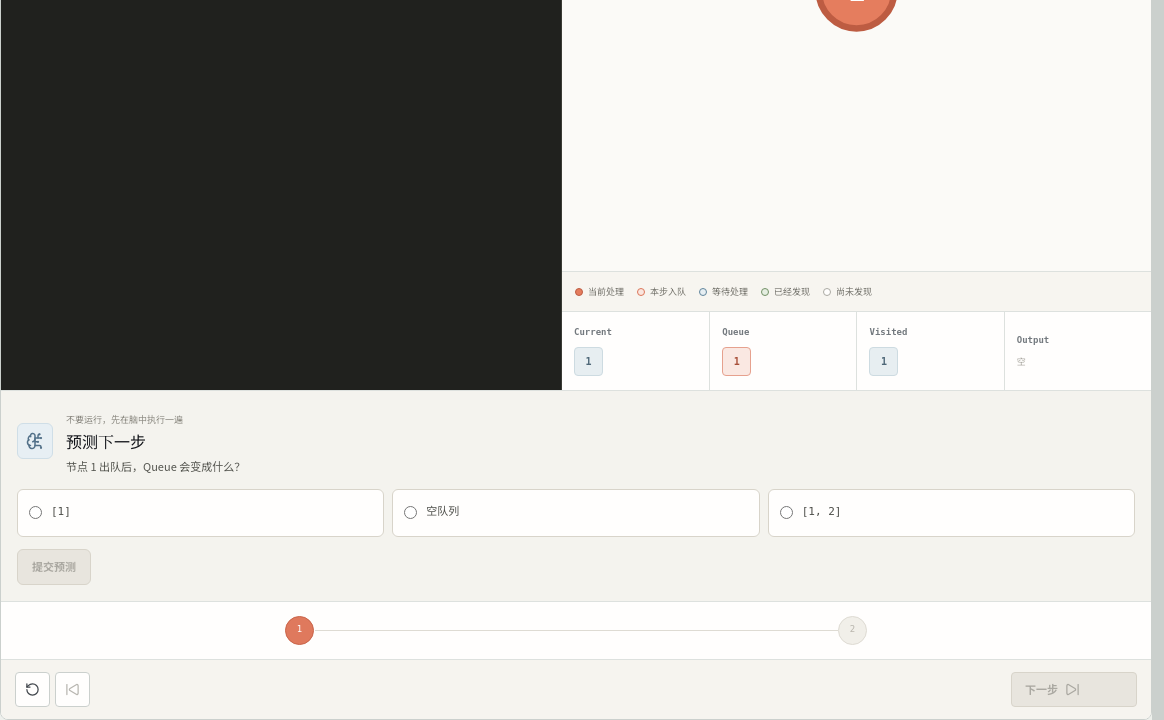
Scenario: TracePredictionChallenge › locks the next state until an answer is submitted, then reveals and advances
(page scrolled)
expect the heading "预测下一步" is shown: met, box [66,430,146,453]
expect the button "下一步" is disabled: met, box [1011,672,1137,706]
Click the radio button labelled "空队列".
click(411, 512)  # box [404,506,417,519]
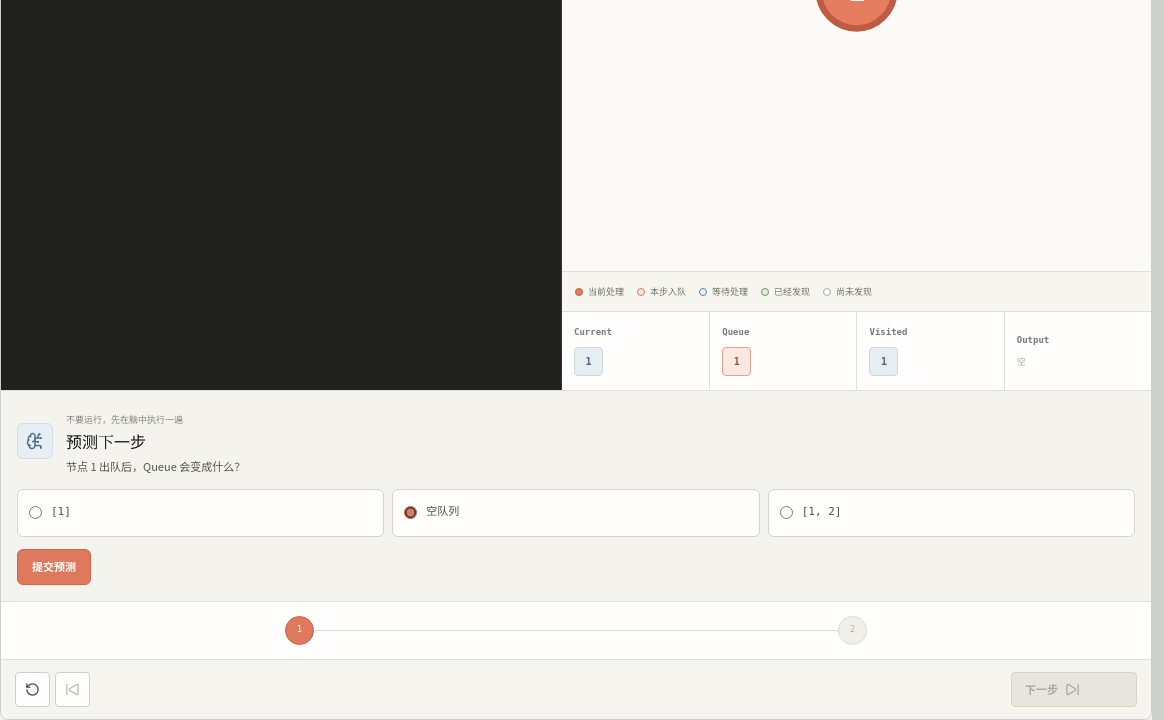
Click the button "提交预测".
click(54, 566)  # box [17,548,91,584]
(page scrolled)
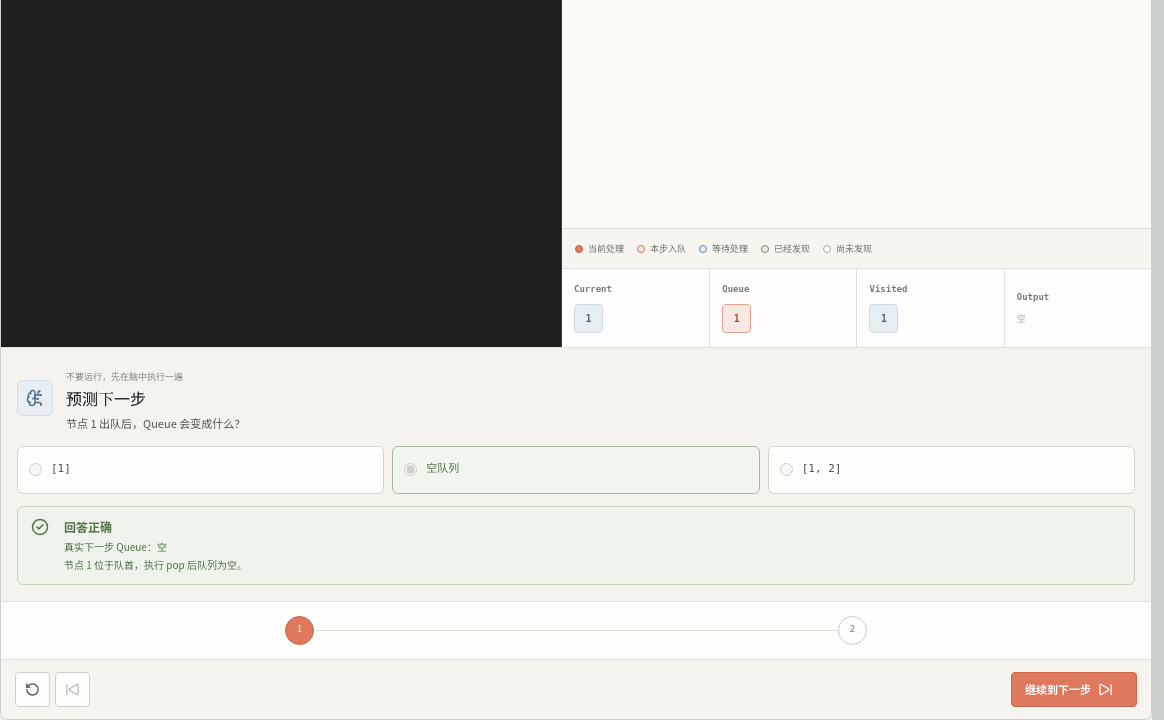
expect the message shows "回答正确": met, box [64,518,112,534]
expect the message shows "真实下一步 Queue：空": met, box [17,506,1135,584]
expect the button "继续到下一步" is enabled: met
Click the button "继续到下一步".
click(1074, 689)  # box [1011,672,1137,706]
(page scrolled)
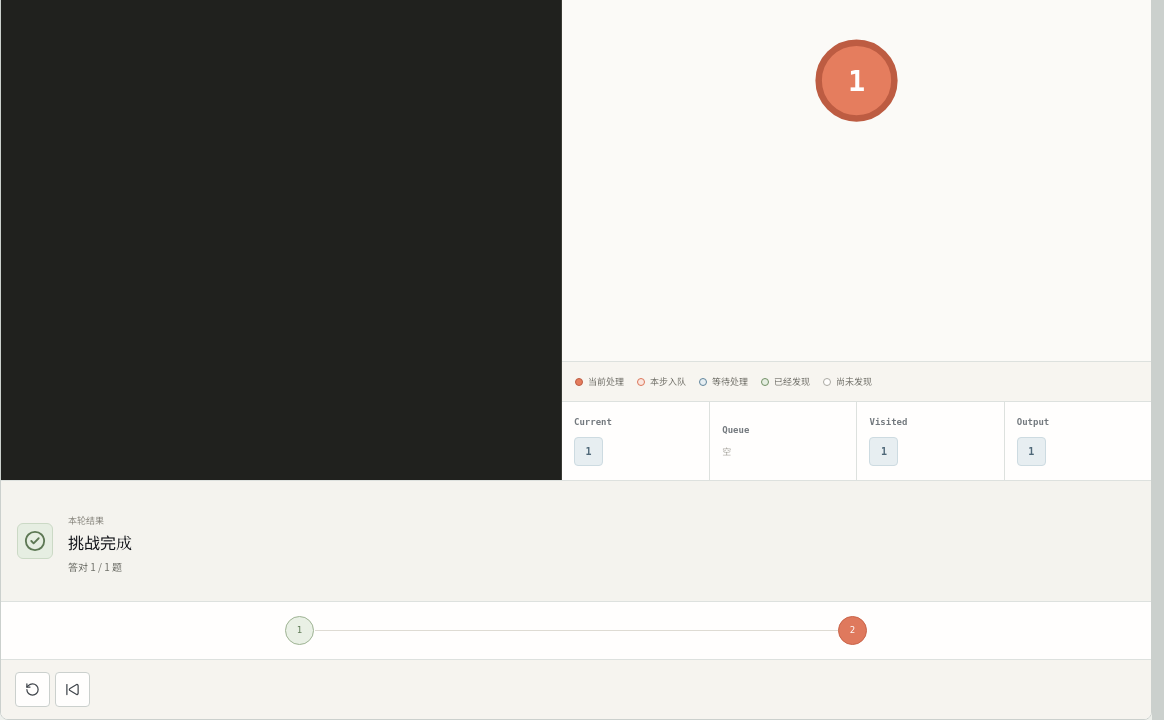
expect the heading "挑战完成" is shown: met, box [68,531,132,554]
expect the text "答对 1 / 1 题" is shown: met, box [68,559,122,574]
